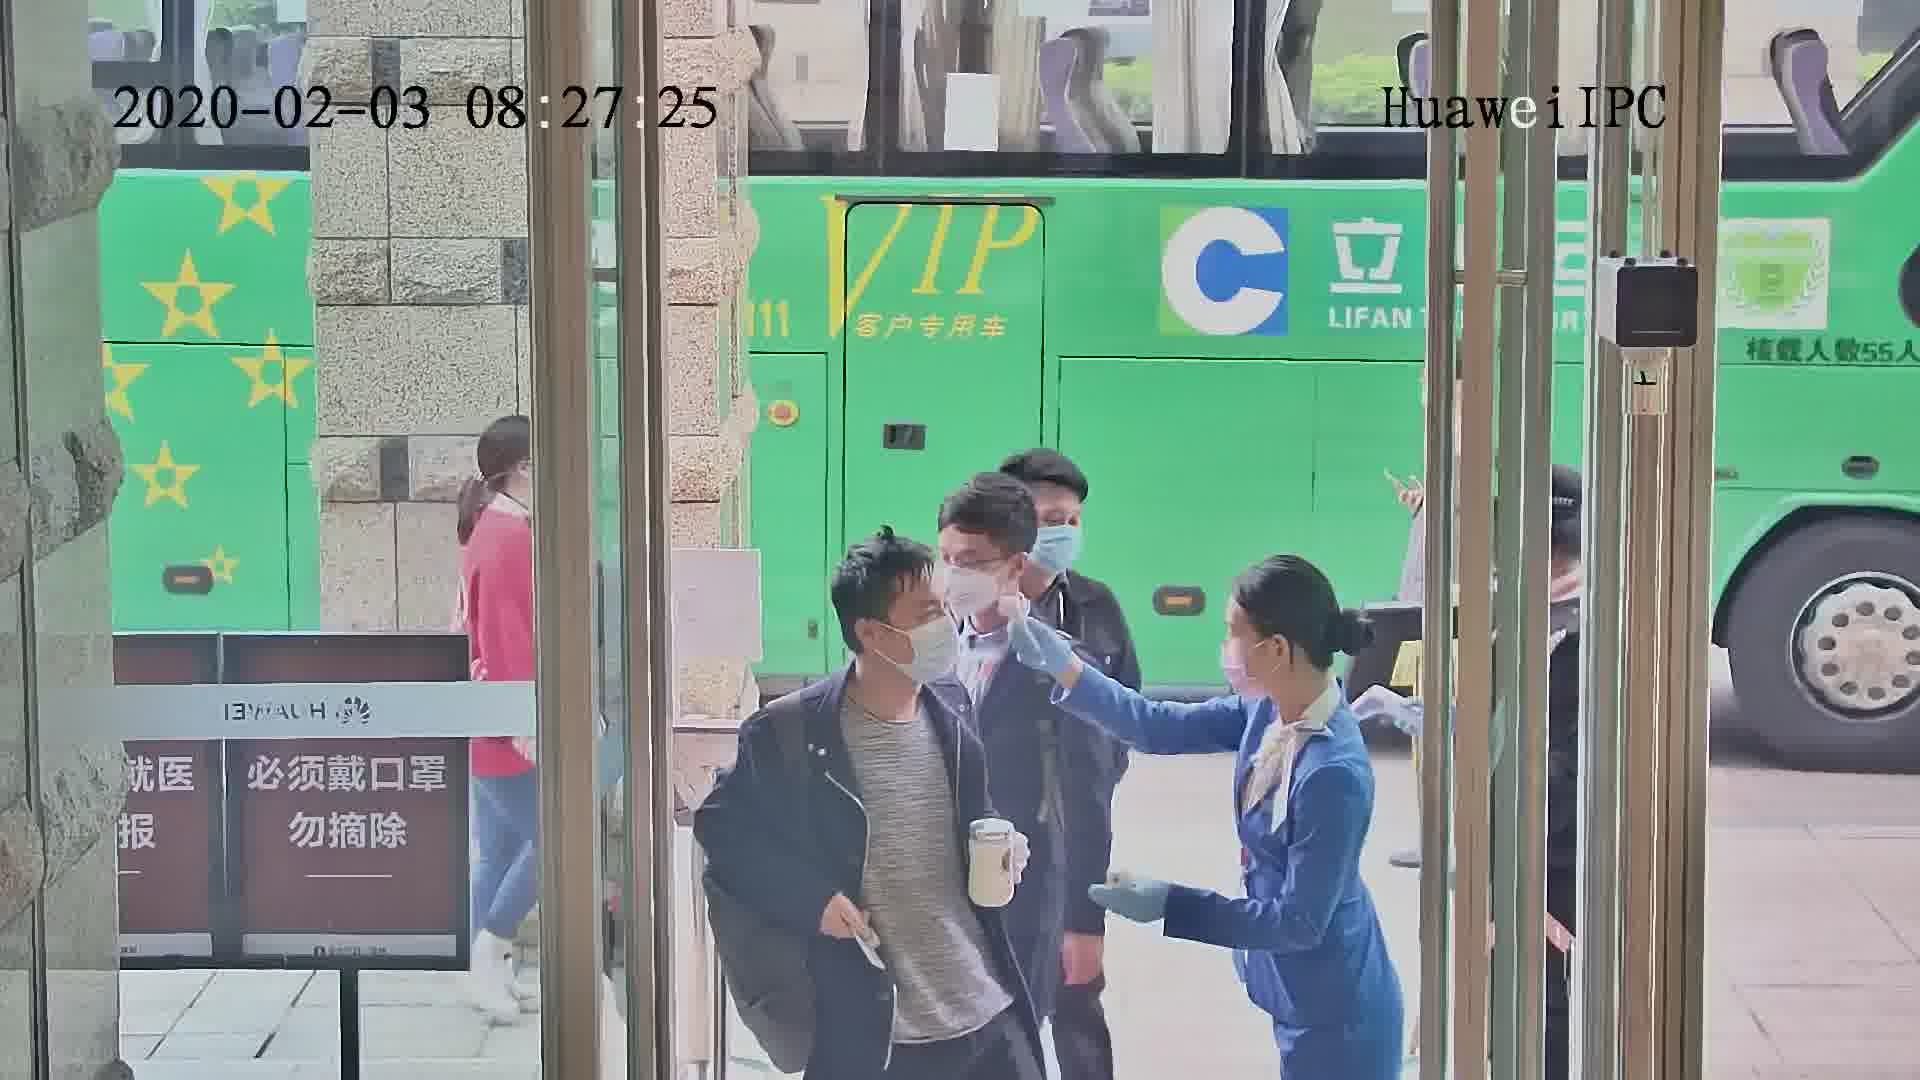face: (883, 578, 965, 686), (943, 522, 1007, 618), (1218, 604, 1278, 706), (1038, 484, 1083, 582)
mask: (936, 553, 1003, 622), (905, 618, 960, 684), (1216, 635, 1269, 702), (1027, 518, 1078, 580)
person: (796, 535, 980, 774), (1229, 543, 1378, 817), (930, 488, 1098, 706), (455, 415, 537, 558)
